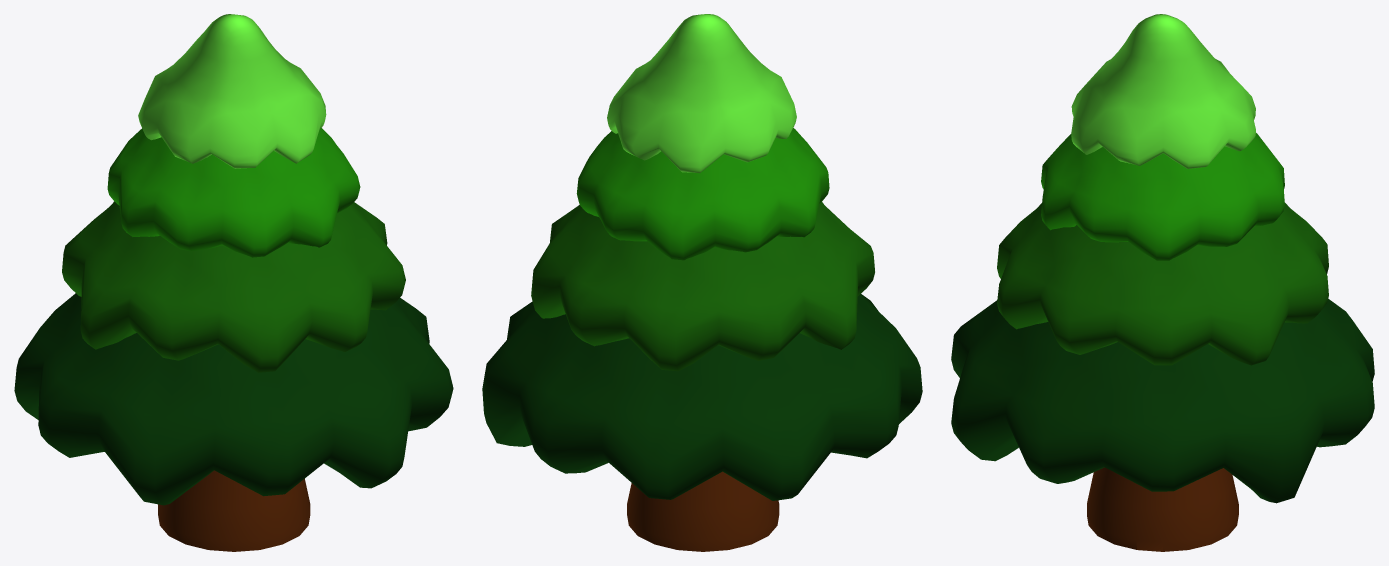
File: Sapin_triangle 1.fbx
3 renders of one model, left to right at view 1: azimuth 30°, elevation 25°; view 2: azimuth 150°, elevation 25°; view 3: azimuth 270°, elevation 25°, orthographic.
Visible parts, largest first — view 1: Tronc002, 012; view 2: Tronc002, 012; view 3: Tronc002, 012.
Boxes of the visible parts, box(x1,y1,x2,y2) form: Tronc002: box(14, 128, 453, 551); 012: box(138, 14, 326, 168); Tronc002: box(482, 128, 922, 551); 012: box(607, 14, 796, 173); Tronc002: box(951, 133, 1374, 551); 012: box(1071, 14, 1255, 168).
Bounding box in the file's own units: 4.2 × 5.31 × 4.06.
